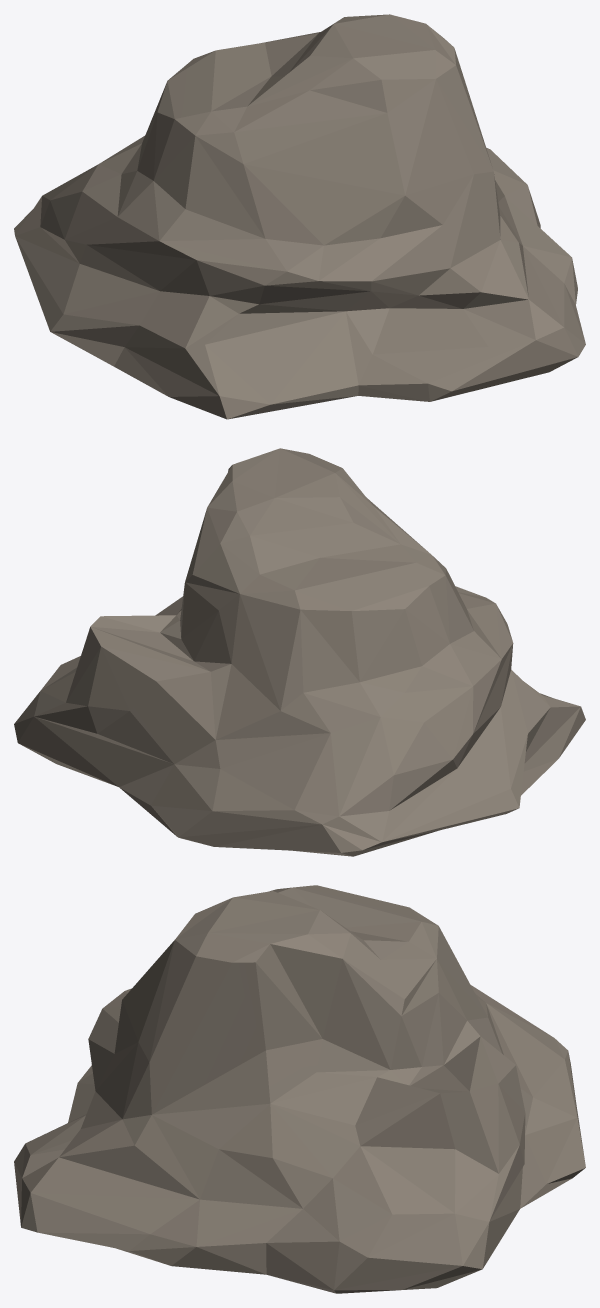
File: SM_Env_Rock_Large_01.glb
3 views of the same model, one above another, from view 1: azimuth 30°, elevation 25°; view 2: azimuth 150°, elevation 25°; view 3: azimuth 270°, elevation 25° (orthographic). The views are drawn at different scales.
Visible parts, largest first — view 1: SM_Env_Rock_Large_01; view 2: SM_Env_Rock_Large_01; view 3: SM_Env_Rock_Large_01.
Boxes of the visible parts, x1,y1,x2,y2 form: SM_Env_Rock_Large_01: [14, 14, 585, 419]; SM_Env_Rock_Large_01: [14, 448, 585, 856]; SM_Env_Rock_Large_01: [14, 885, 585, 1293].
Bounding box in the file's own units: 0.063 × 0.0348 × 0.0615.
Materials: 1 (1 with a texture image).
